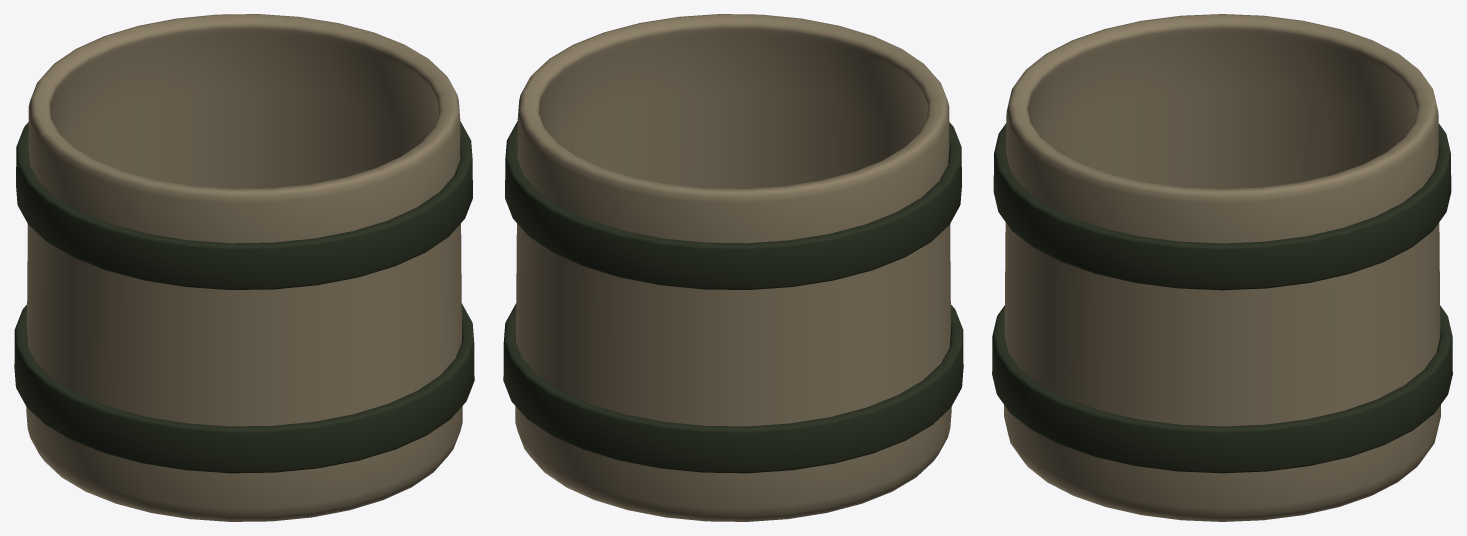
The model's file is BarrelOpen_v01.glb.
3 views of the same model, side by side, from view 1: azimuth 30°, elevation 25°; view 2: azimuth 150°, elevation 25°; view 3: azimuth 270°, elevation 25° (orthographic).
Parts seen in each view (by area): view 1: SM_BarrelOpen; view 2: SM_BarrelOpen; view 3: SM_BarrelOpen.
Part boxes in pixels (x1,y1,x2,y2): SM_BarrelOpen: (14,14,474,521); SM_BarrelOpen: (503,14,963,521); SM_BarrelOpen: (992,14,1452,521).
Size of the model in its own units: 1.14 by 0.9116 by 1.14.
